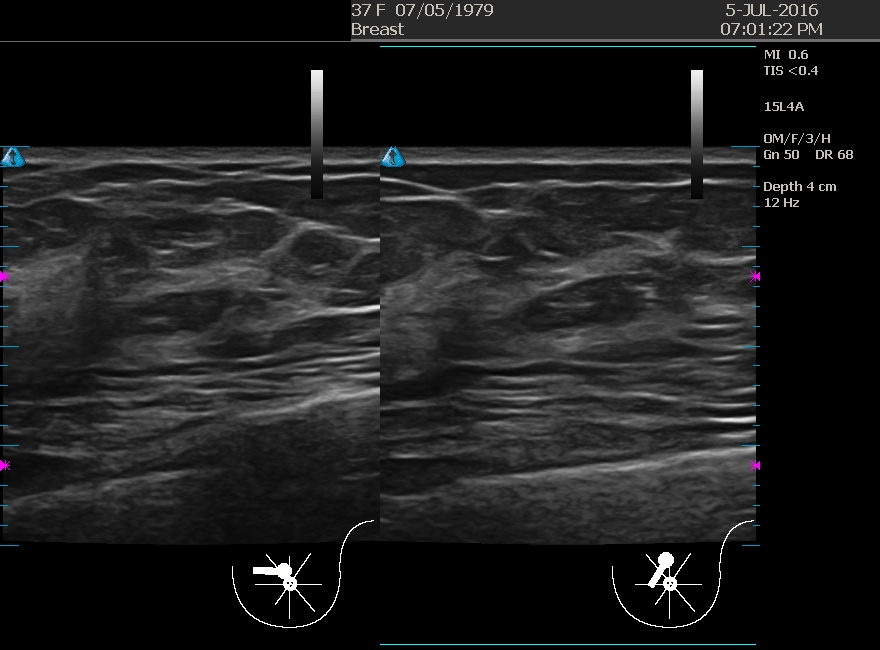BIRADS_3: (73, 222, 273, 422), (464, 209, 664, 409)
